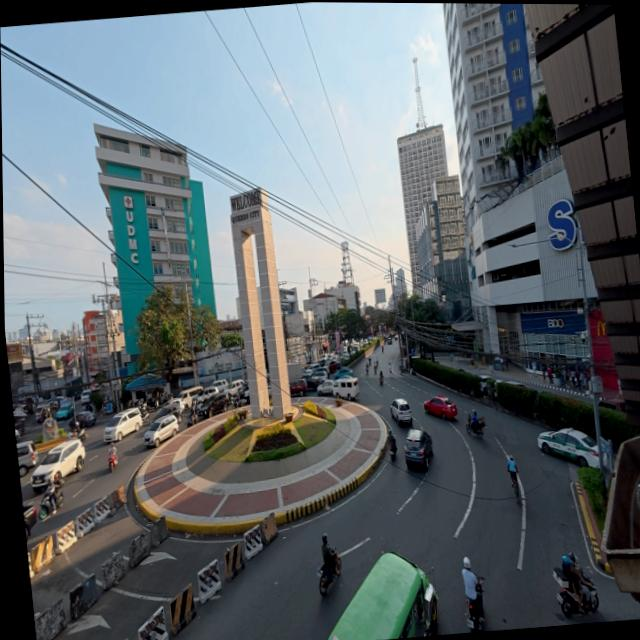car: (403, 424, 438, 472), (143, 414, 182, 448), (424, 395, 460, 422), (16, 440, 39, 476), (389, 397, 415, 427)
vans: (318, 365, 362, 399)
